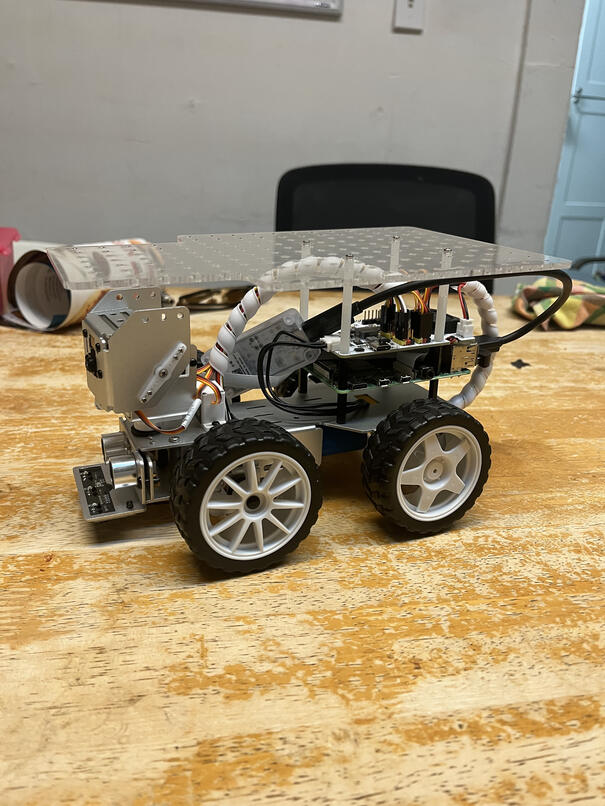vehicle: (31, 224, 576, 579)
